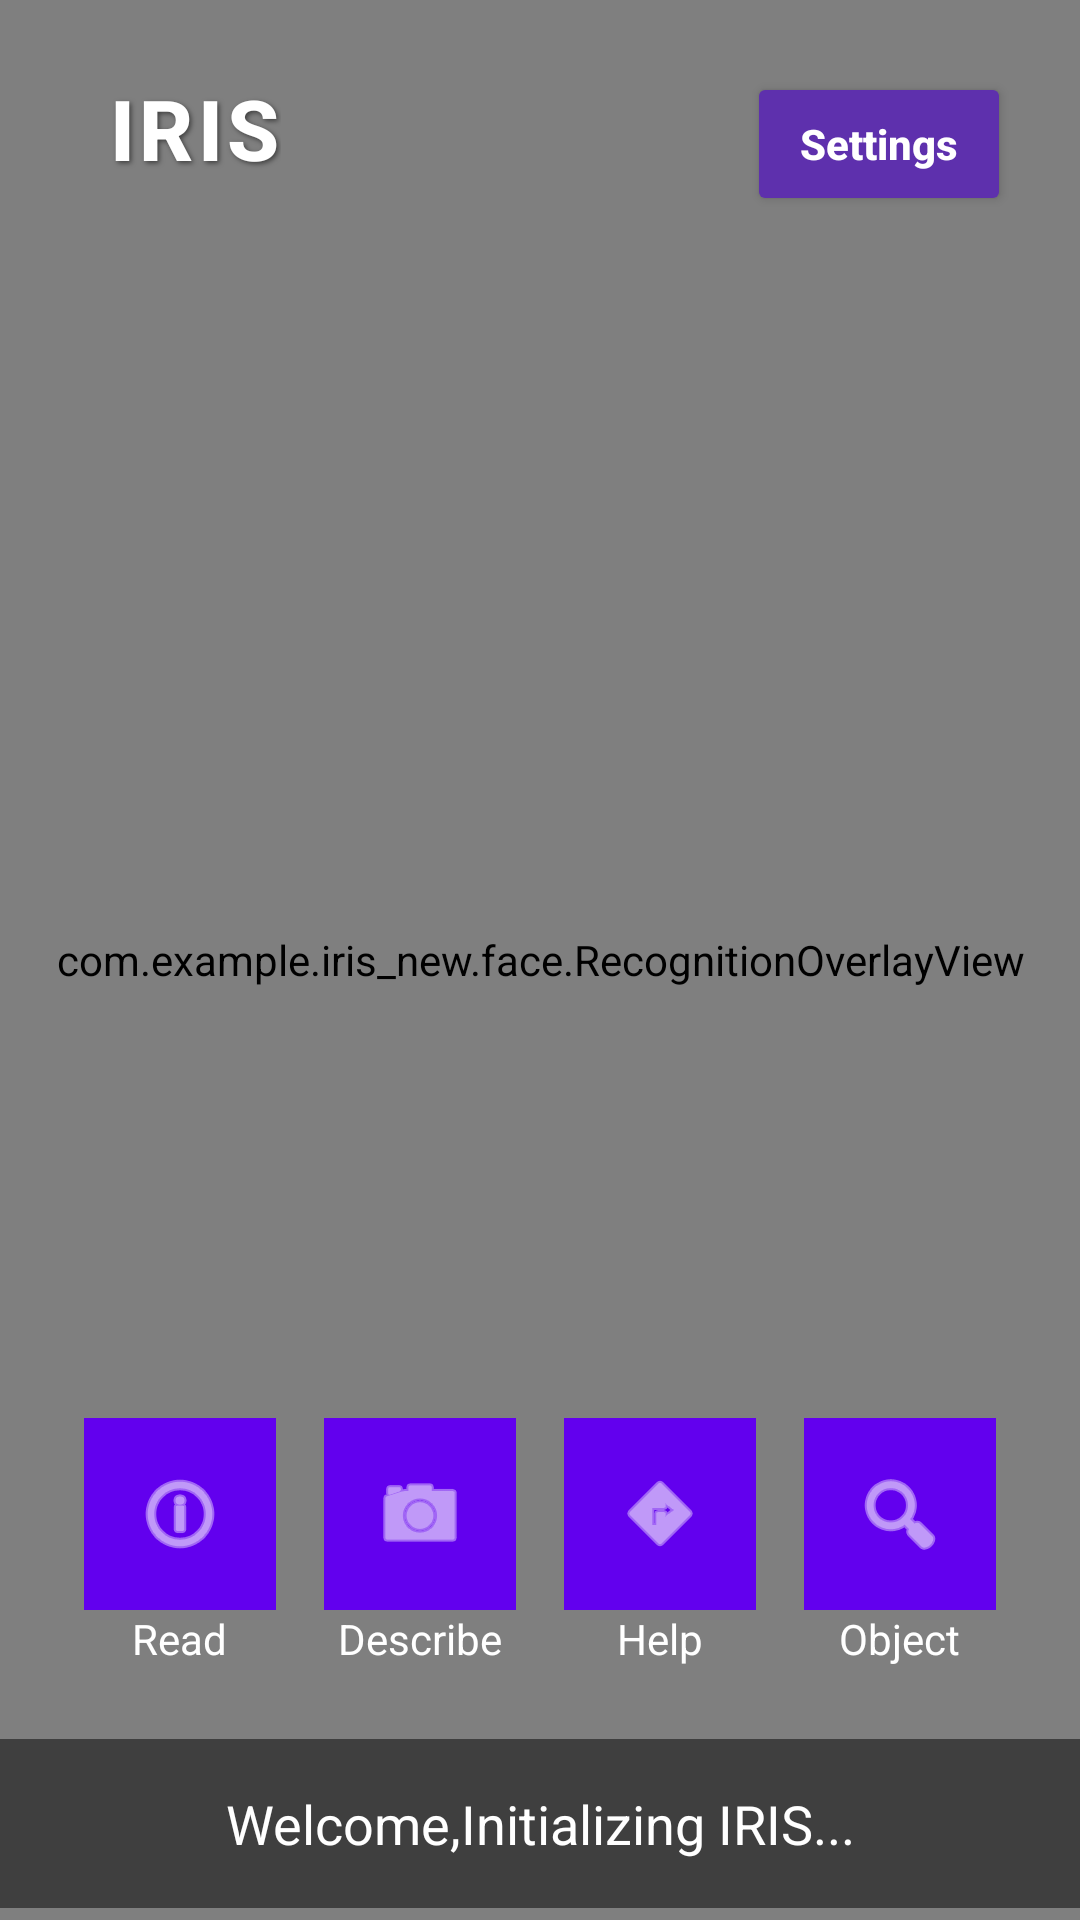

Named icons in this screenshot (1080x1920) and their bounding boxes, (x1, y1, x2, y2):
directions: (564, 1418, 756, 1610)
info details: (84, 1418, 276, 1610)
search: (804, 1418, 996, 1610)
